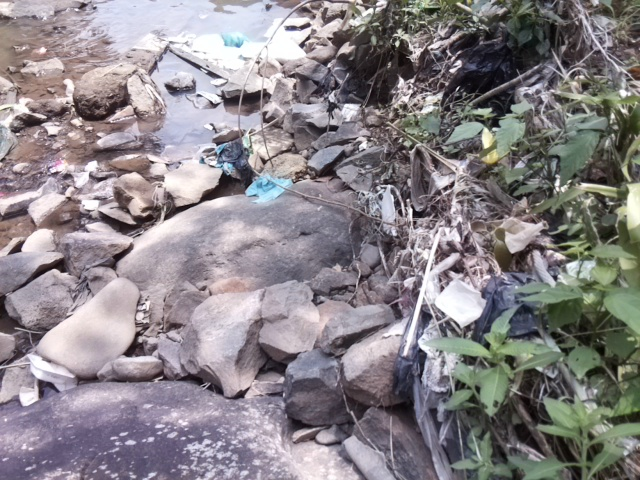Sampah_Plastik: (209, 136, 257, 178), (245, 171, 291, 202), (220, 28, 249, 48)
Sampah_Styrofoam: (25, 354, 77, 387)
